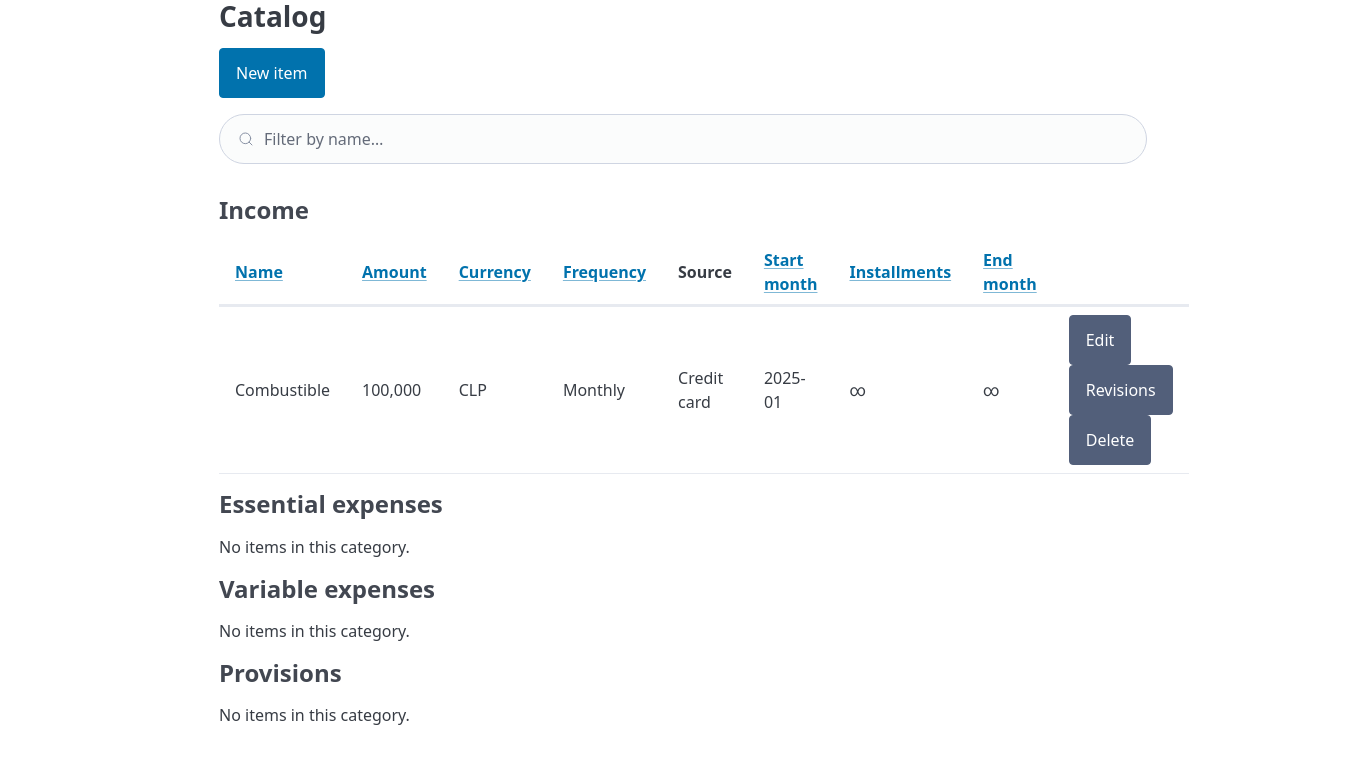
CatalogView › disables category select in edit dialog for income items
Click the button "Edit": click(1100, 340) [1069,315,1131,365]
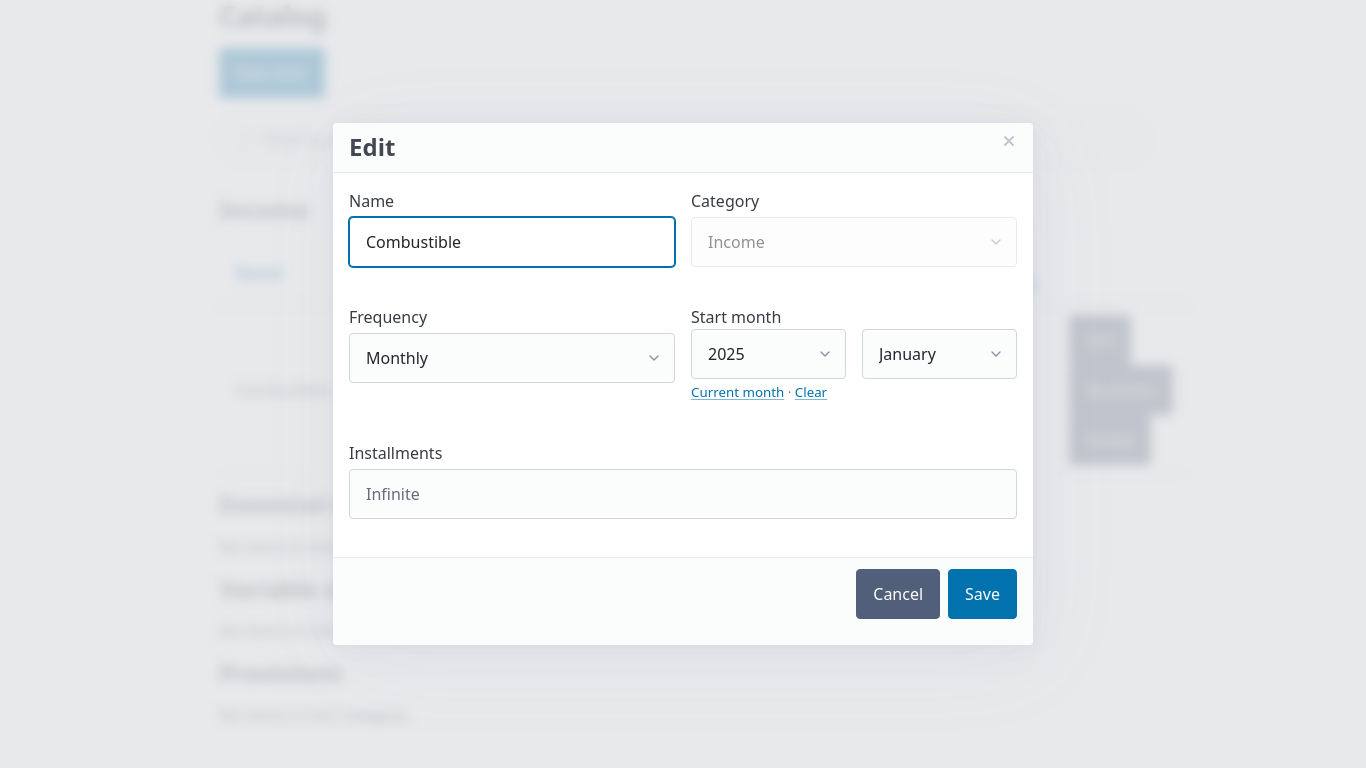
Expected: the dropdown labelled "Category" is disabled, [691,217,1017,267]
